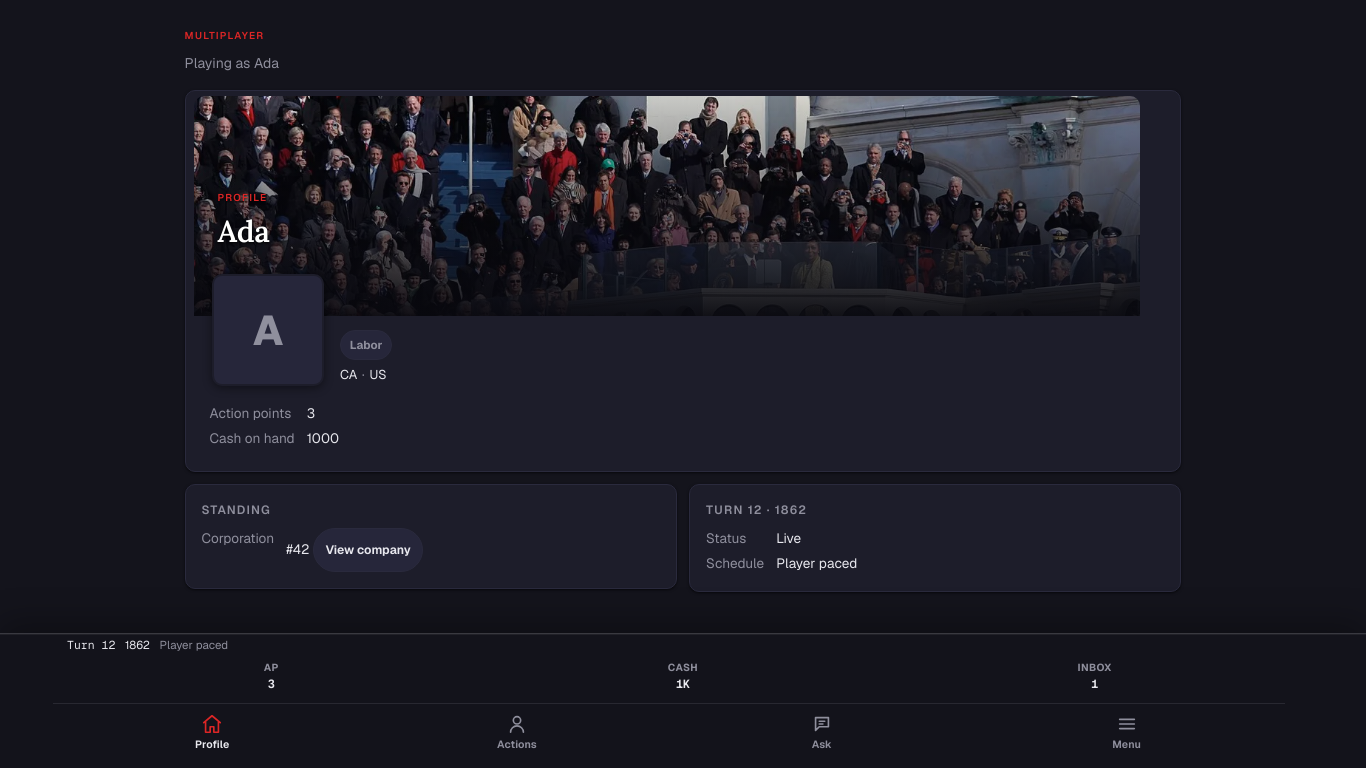
Test: MP corporation detail drill-in at 1280px (#359) › closes the open panel on auth expiry instead of showing a stale company
Click the button "View company" at (368, 550), box [313,528,423,572]
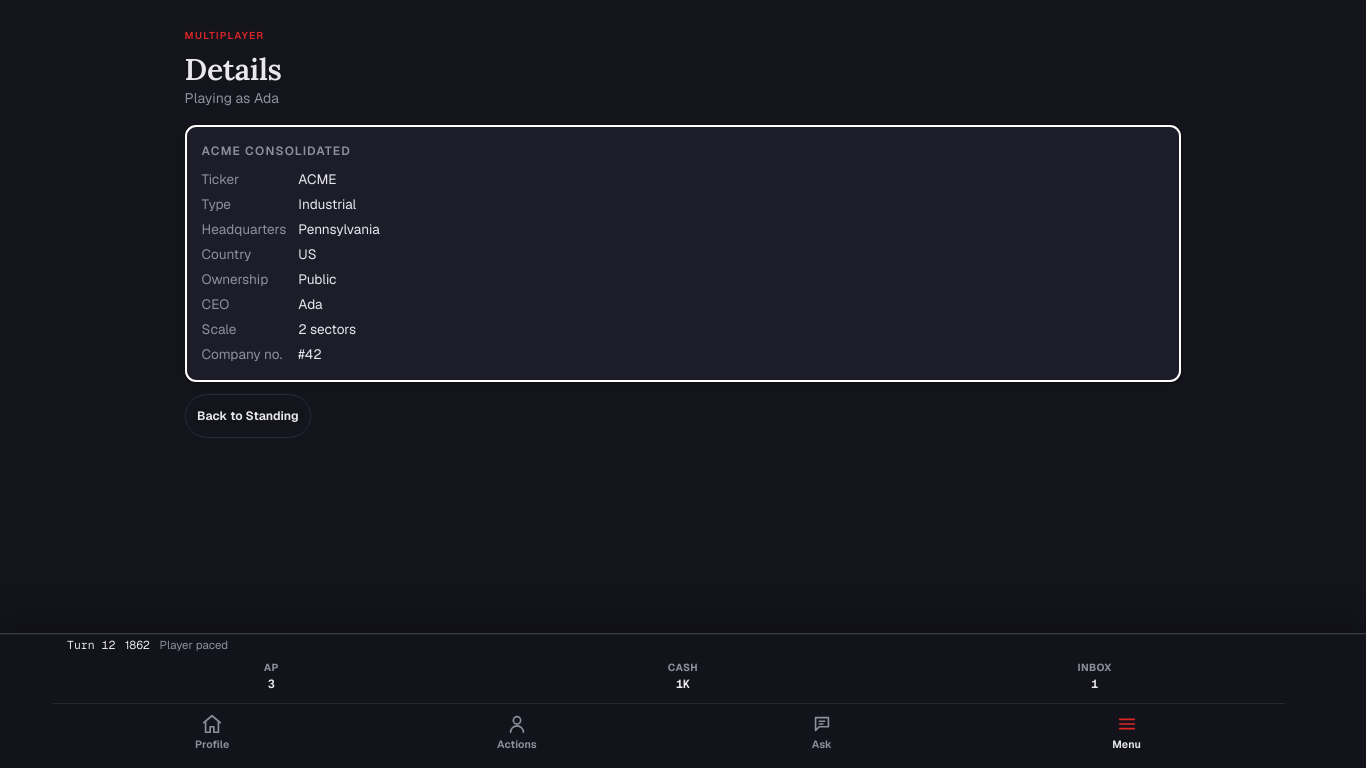
Result: the element named "Corporation detail" is shown at [185,125,1181,382]
Click the button "Menu" at (1127, 734), box [974,706,1279,762]
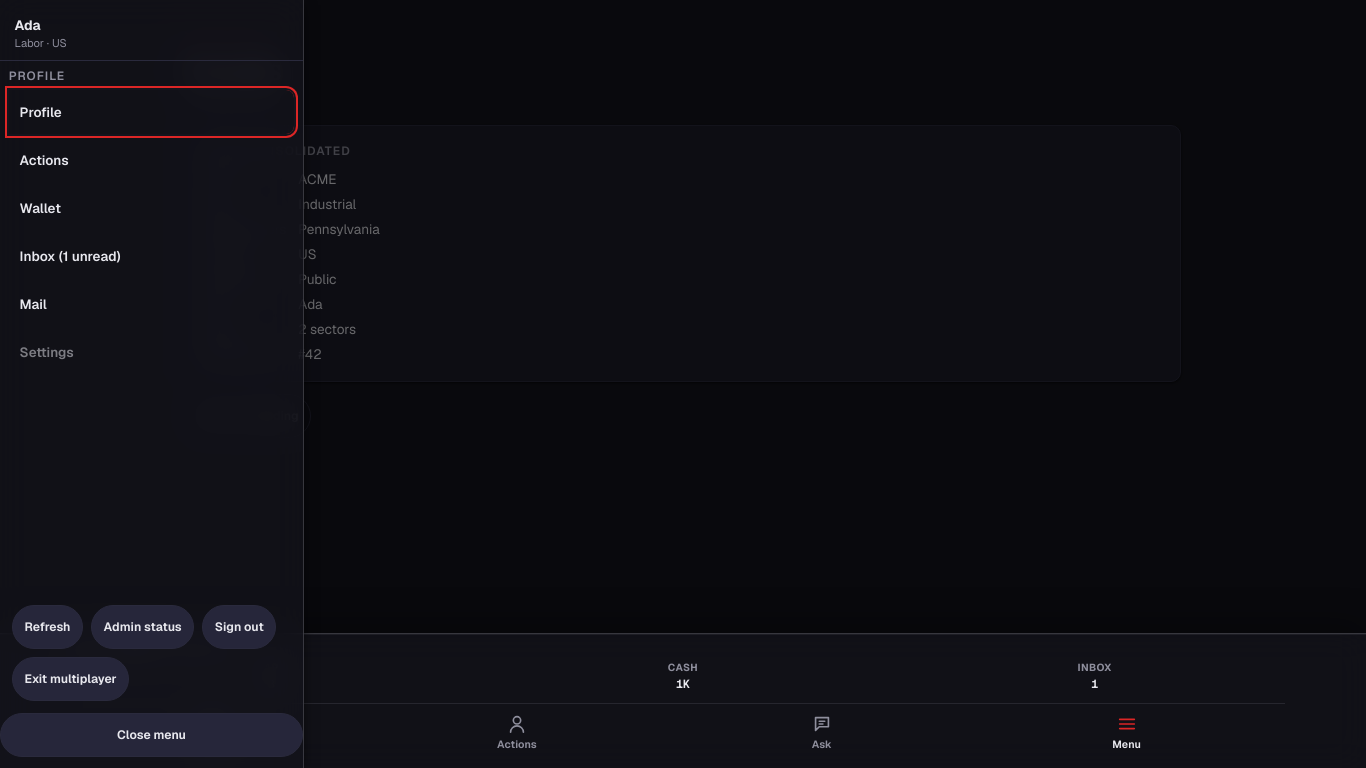
Click the button "Refresh" at (48, 627), box [12,605,83,649]
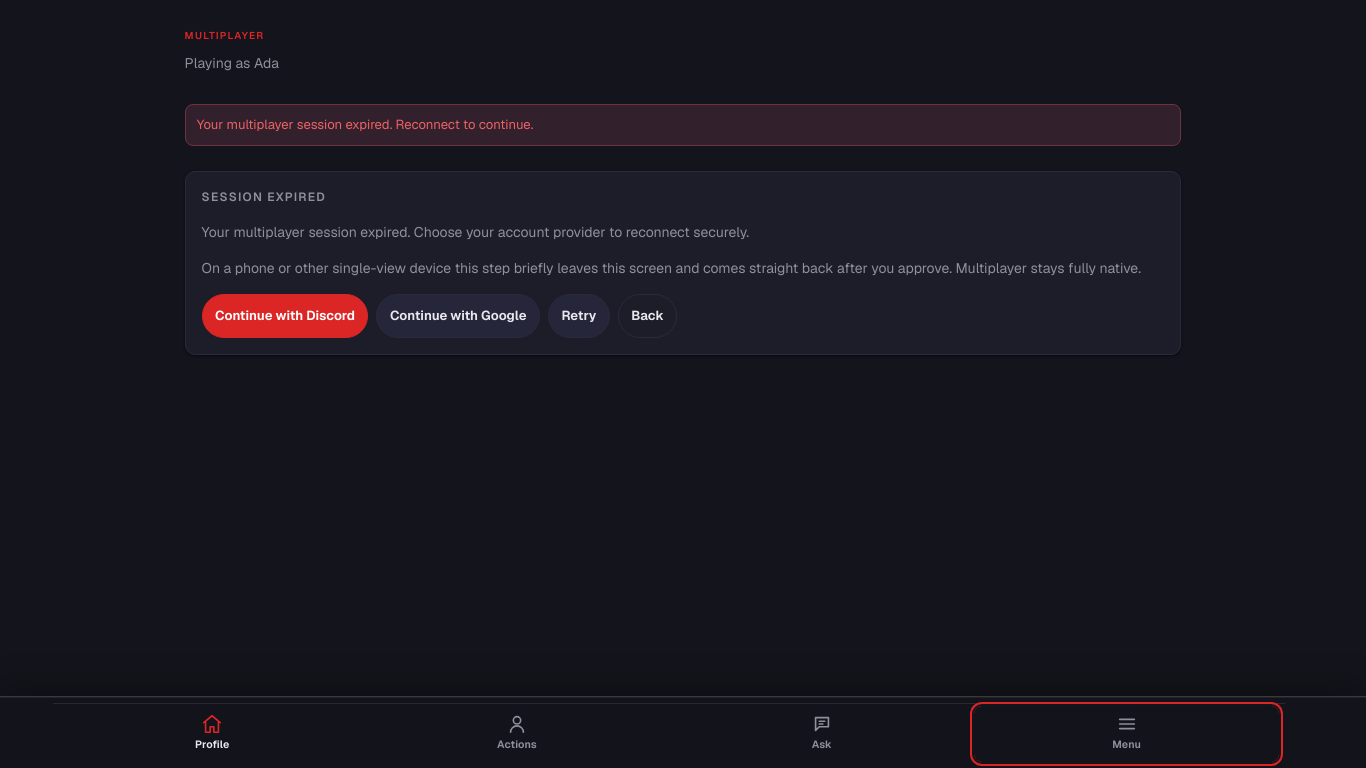
Result: the heading "Session expired" is shown at [202,189,326,205]
Result: the button "Standing" is gone
